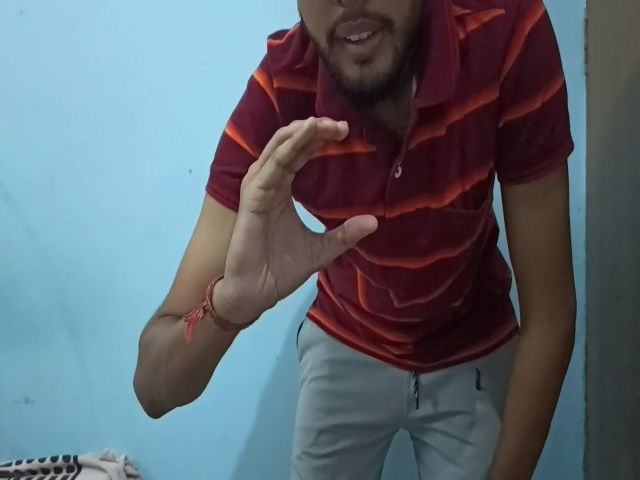C: (219, 116, 378, 307)
